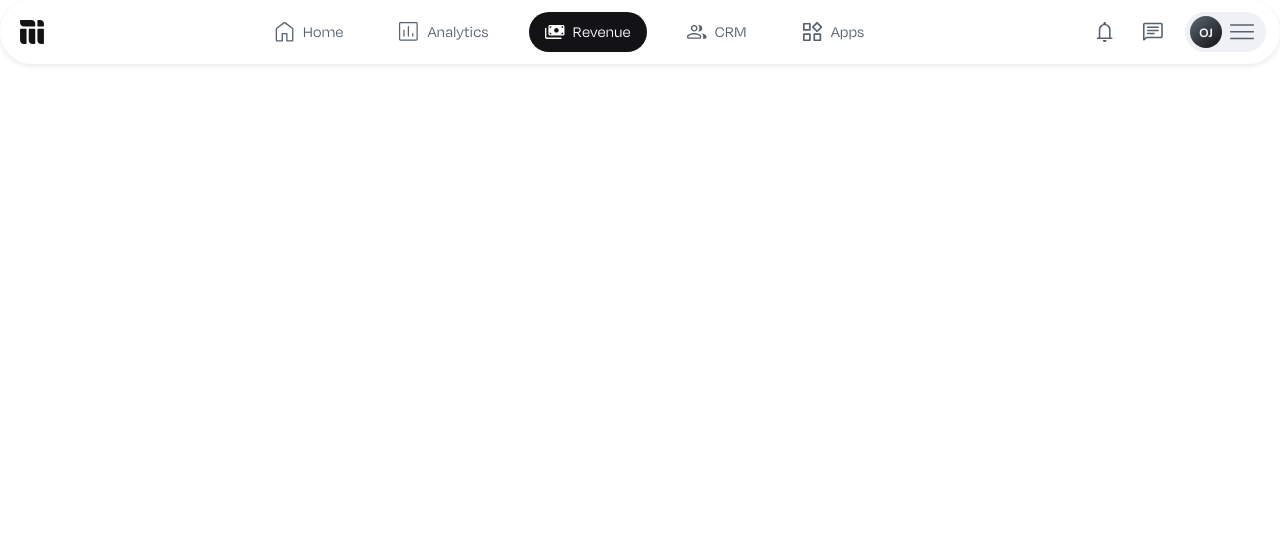
Navbar › should open profile menu when profile button is clicked
The image size is (1280, 535).
Click the button "OJ".
click(1226, 32)  # box [1185, 12, 1266, 52]
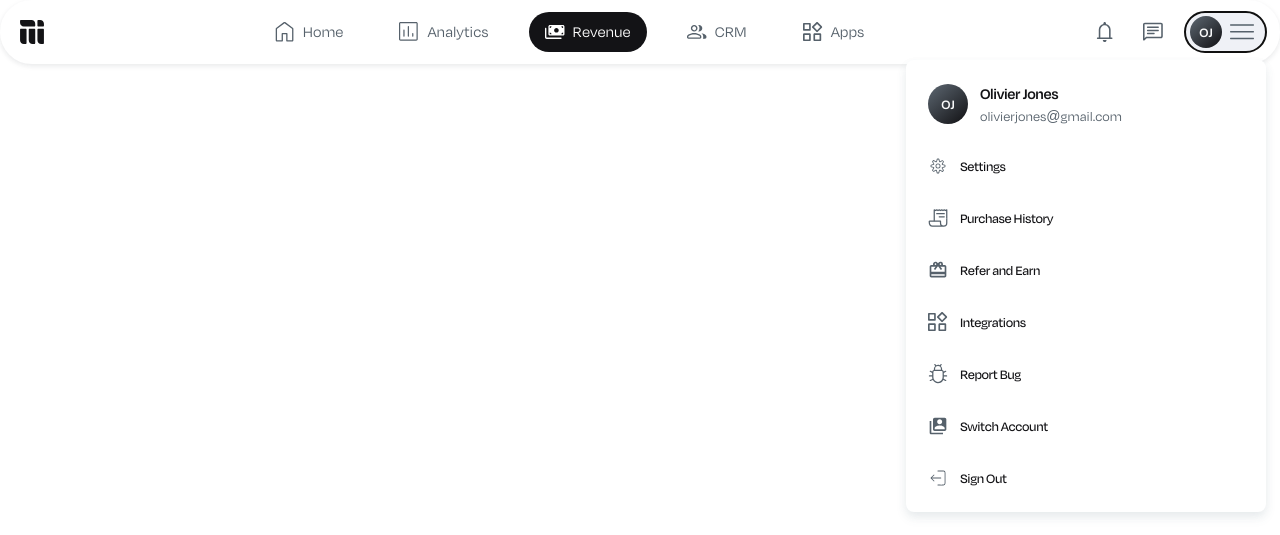
Expected: the text "Settings" is shown, [960, 154, 1006, 178]
